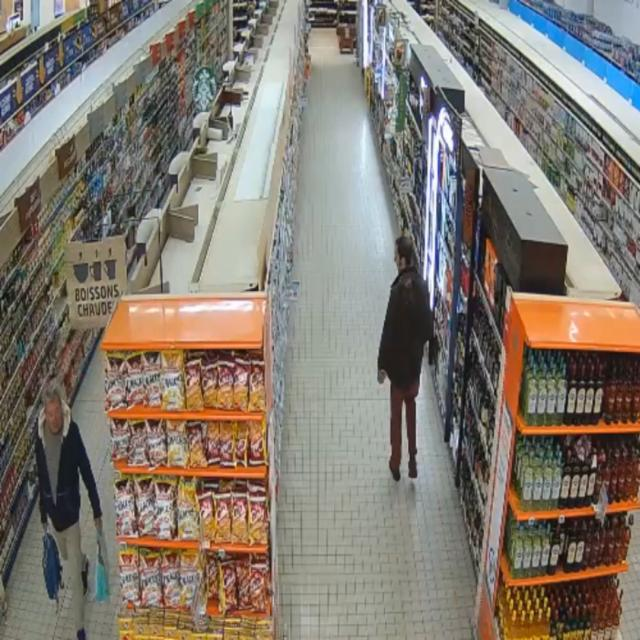bags: (43, 533, 63, 602), (95, 531, 109, 602)
hands: (94, 518, 102, 533), (378, 370, 386, 384), (41, 521, 48, 533)
person: (36, 381, 101, 639), (378, 236, 433, 481)
